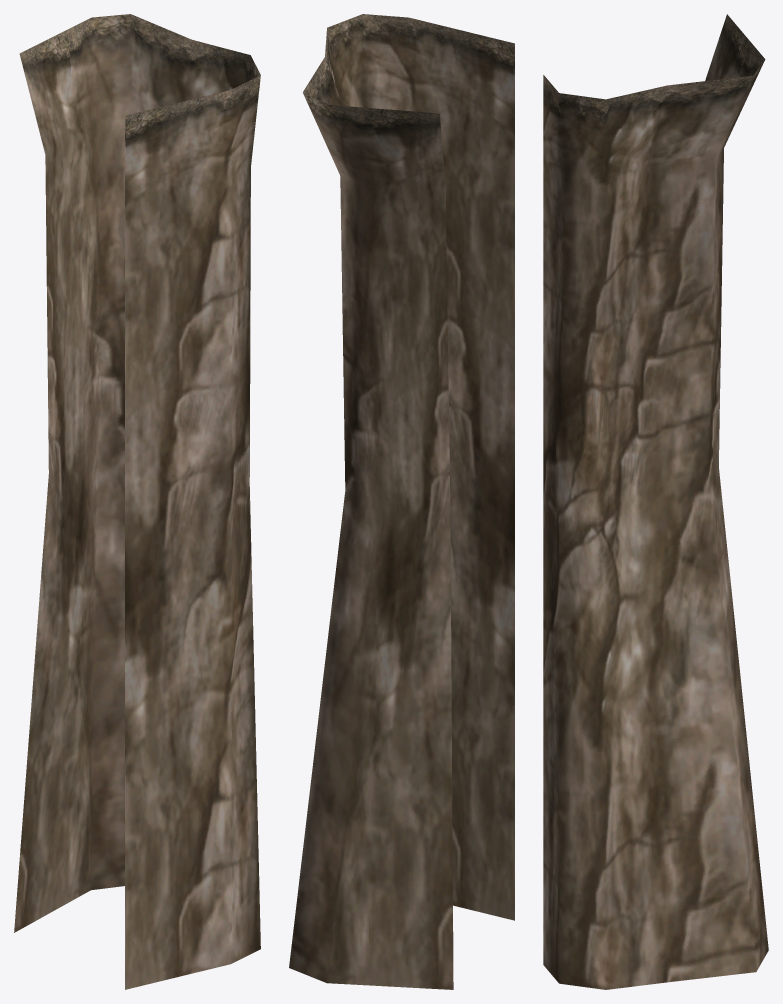
Rendered from OVERHILL_A_01_LINE36.fbx.
The picture shows the model from 3 angles, left to right: view 1: azimuth 30°, elevation 25°; view 2: azimuth 150°, elevation 25°; view 3: azimuth 270°, elevation 25°; orthographic projection.
Visible parts, largest first — view 1: OVERHILL_A_01_LINE36; view 2: OVERHILL_A_01_LINE36; view 3: OVERHILL_A_01_LINE36.
Part boxes in pixels (x1,y1,x2,y2): OVERHILL_A_01_LINE36: (14,14,260,989); OVERHILL_A_01_LINE36: (289,14,514,989); OVERHILL_A_01_LINE36: (543,14,768,989).
Bounding box in the file's own units: 18339 × 84500 × 19402.
2 materials, 2 textured.
